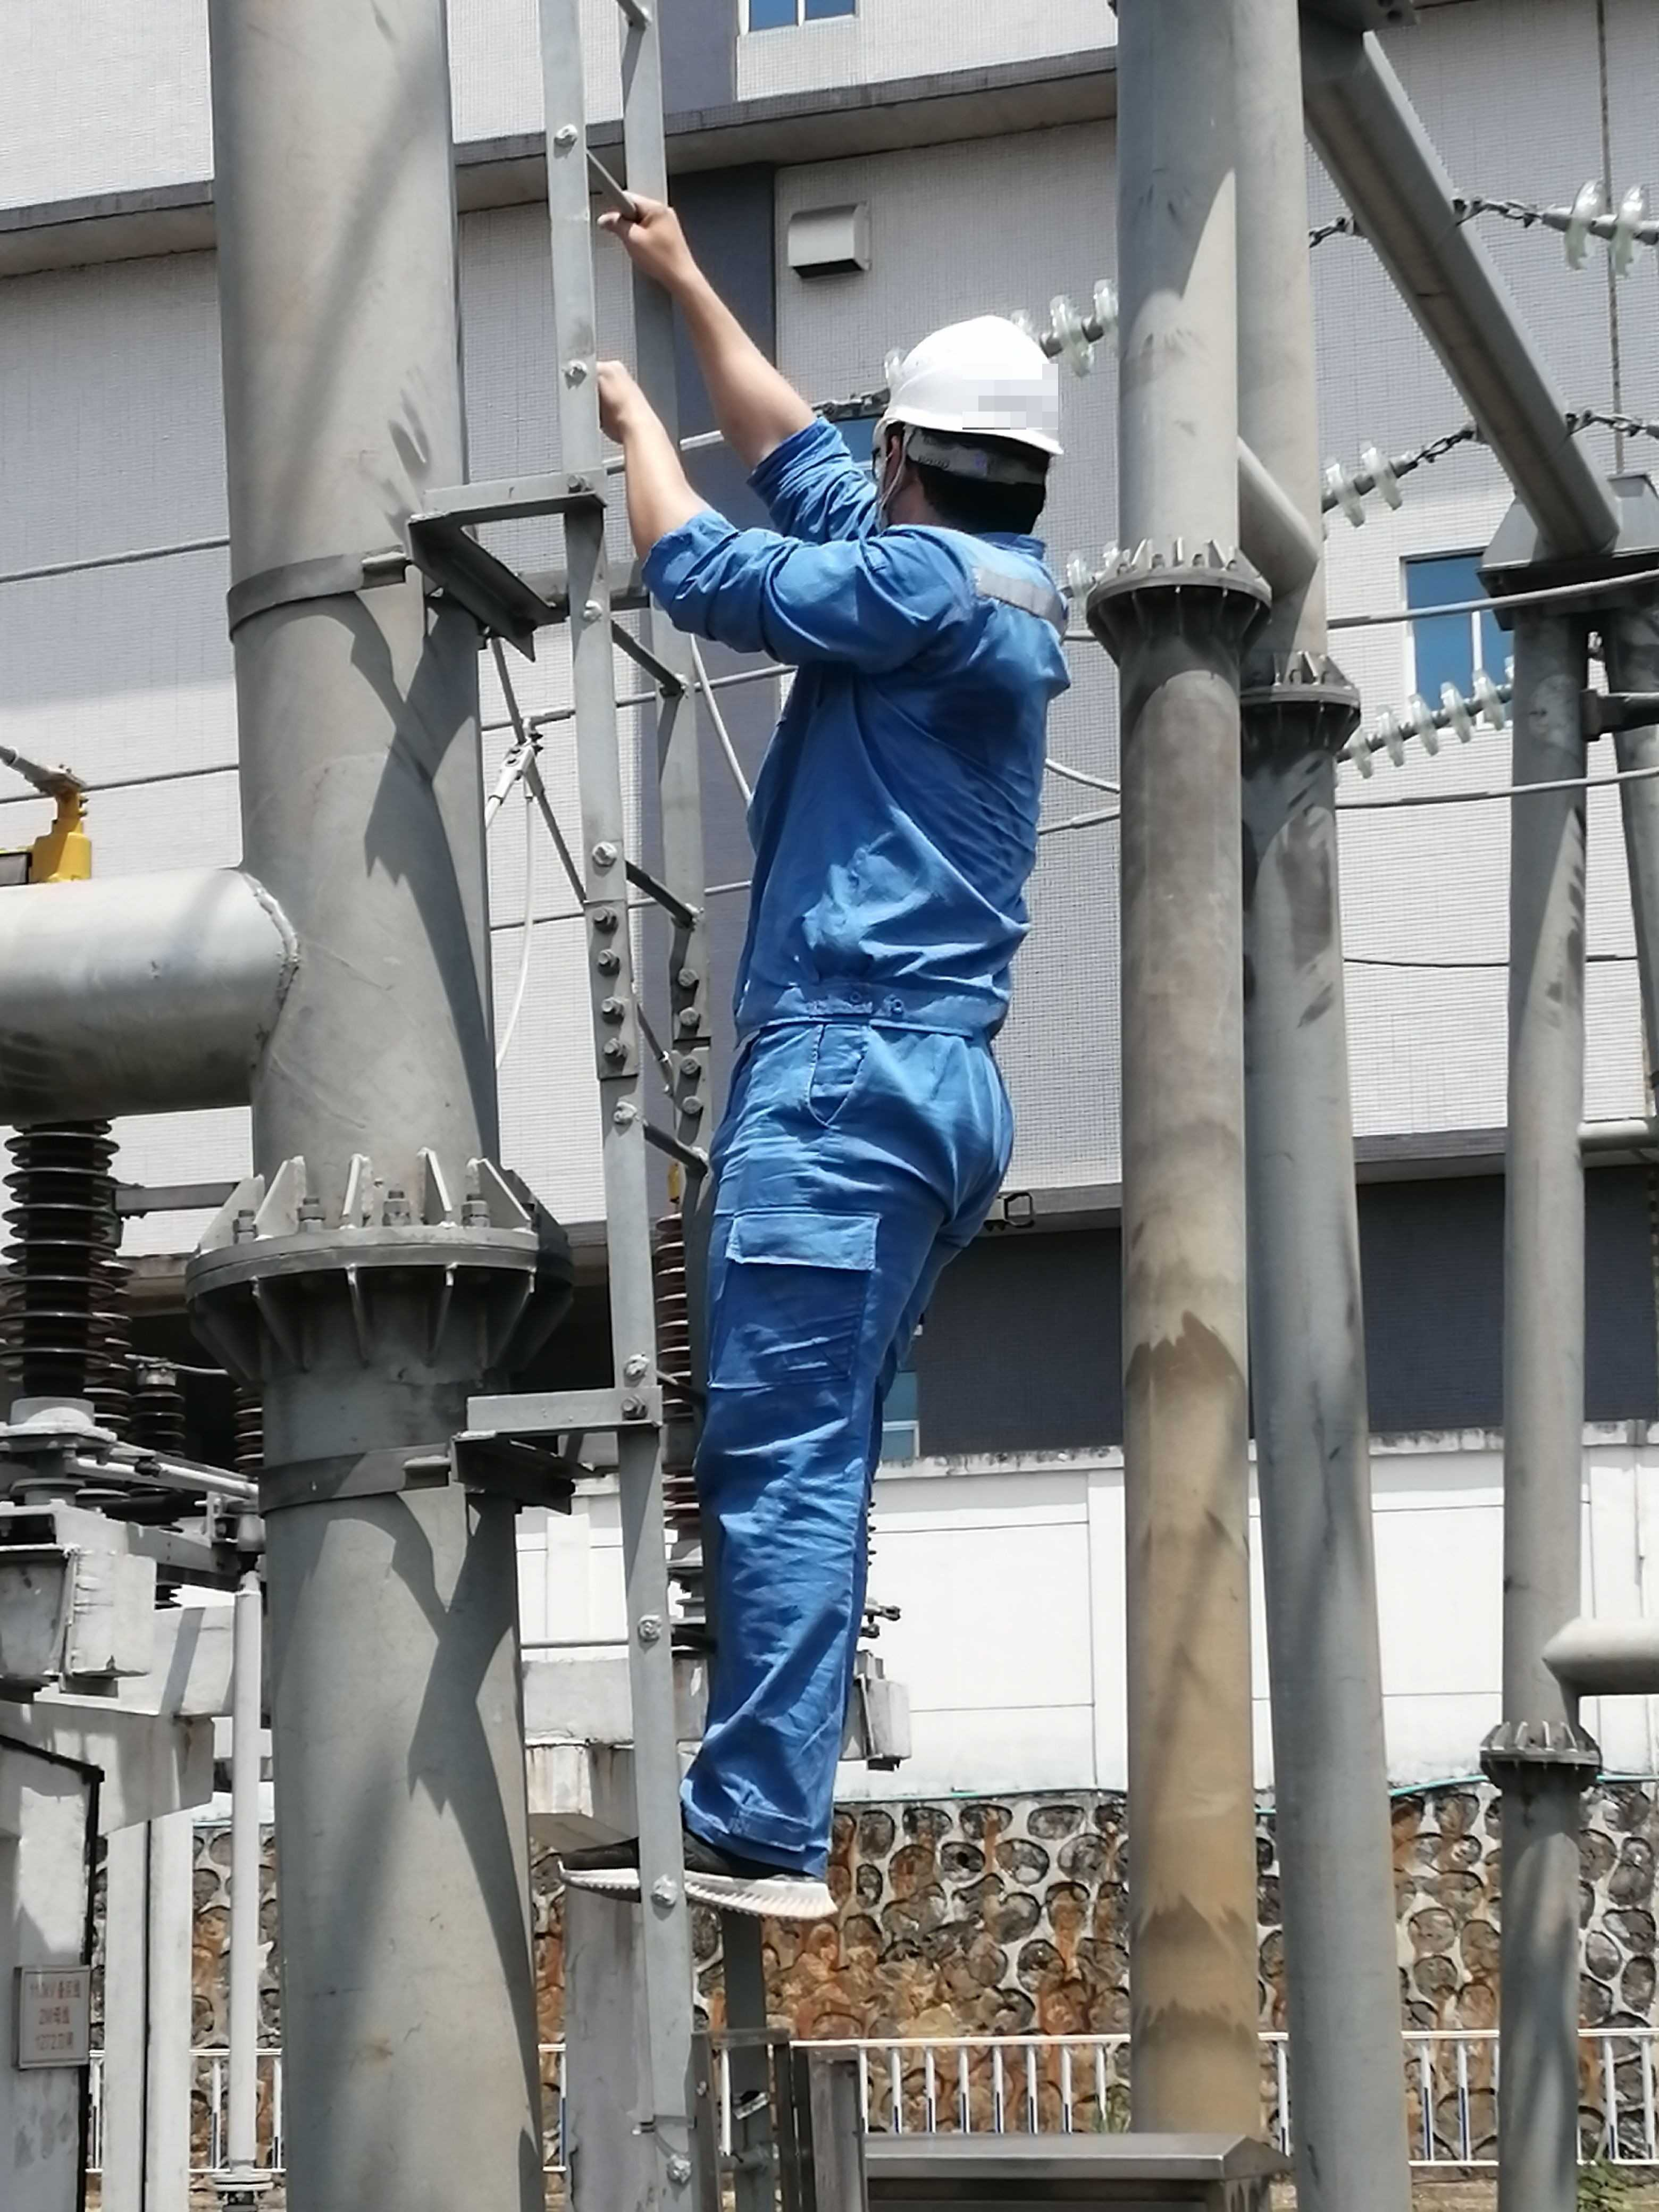downsuit: (695, 1061, 1012, 1855)
upsuit: (652, 509, 1084, 1029)
wrongtop: (619, 200, 857, 507), (587, 373, 775, 627)
